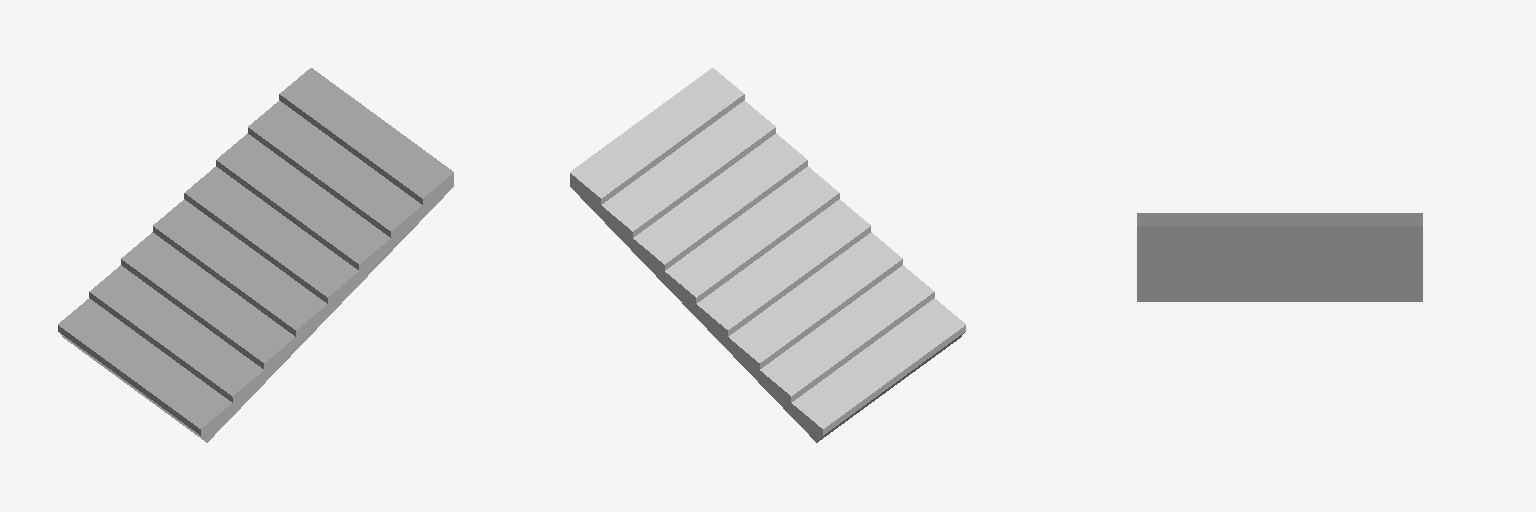
The model's file is cabinRoof.obj.
3 views of the same model, side by side, from view 1: azimuth 30°, elevation 25°; view 2: azimuth 150°, elevation 25°; view 3: azimuth 270°, elevation 25° (orthographic).
Parts seen in each view (by area): view 1: cabinRoof; view 2: cabinRoof; view 3: cabinRoof.
Part boxes in pixels (left/top/right/bottom): cabinRoof: left=58, top=68, right=453, bottom=442; cabinRoof: left=570, top=68, right=965, bottom=442; cabinRoof: left=1137, top=213, right=1422, bottom=301.
Bounding box in the file's own units: 1.21 × 0.9559 × 1.18.